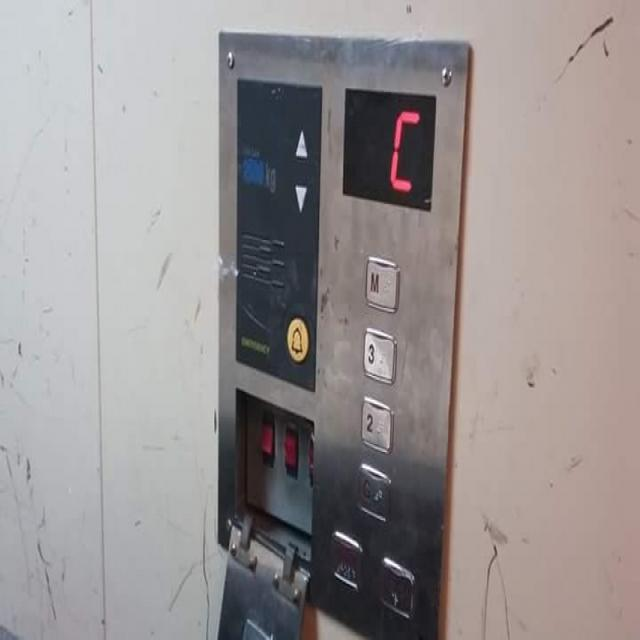2: (358, 395, 396, 457)
3: (362, 328, 398, 385)
G: (356, 460, 393, 525)
M: (364, 249, 402, 316)
alarm: (284, 311, 311, 364)
blur: (376, 554, 416, 622), (329, 528, 364, 593)
led: (338, 83, 438, 213)
switch: (257, 405, 277, 471), (281, 416, 301, 481)
